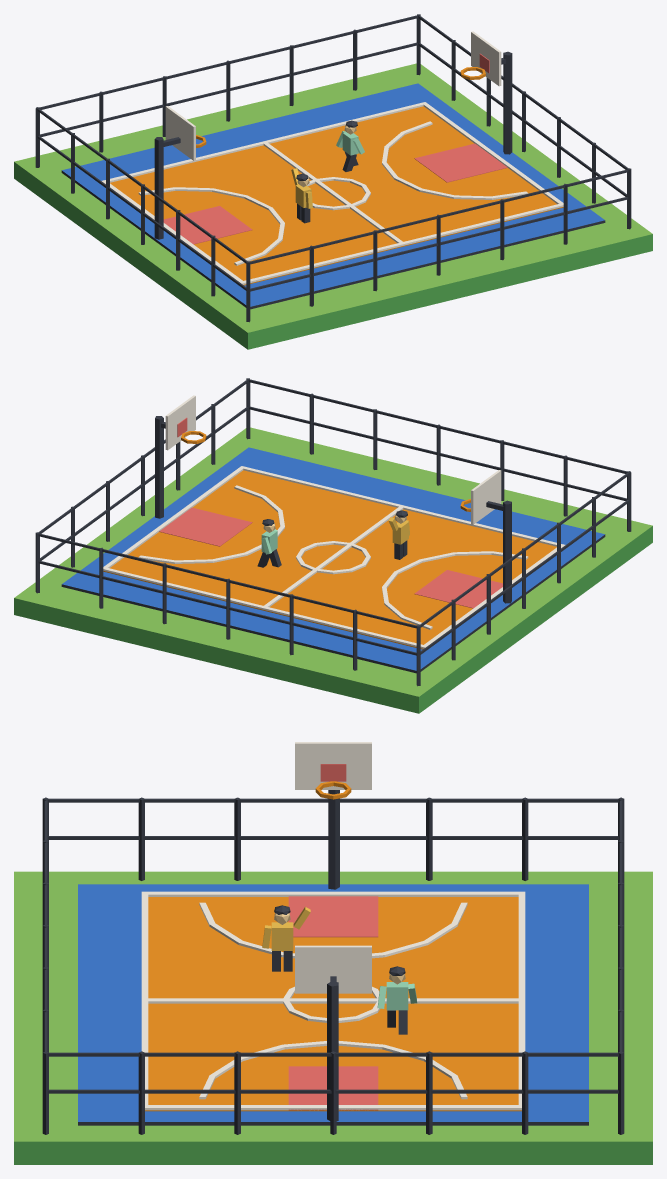
File: sport_basketball.glb
The picture shows the model from 3 angles, top to bottom: view 1: azimuth 30°, elevation 25°; view 2: azimuth 150°, elevation 25°; view 3: azimuth 270°, elevation 25°; orthographic projection. The views are drawn at different scales.
Parts seen in each view (by area): view 1: sport_basketball; view 2: sport_basketball; view 3: sport_basketball.
Part boxes in pixels (box(x1,y1,x2,y2)): sport_basketball: box(14, 14, 652, 349); sport_basketball: box(14, 378, 652, 713); sport_basketball: box(14, 742, 652, 1164).
Size of the model in its own units: 1 by 0.32 by 1.
